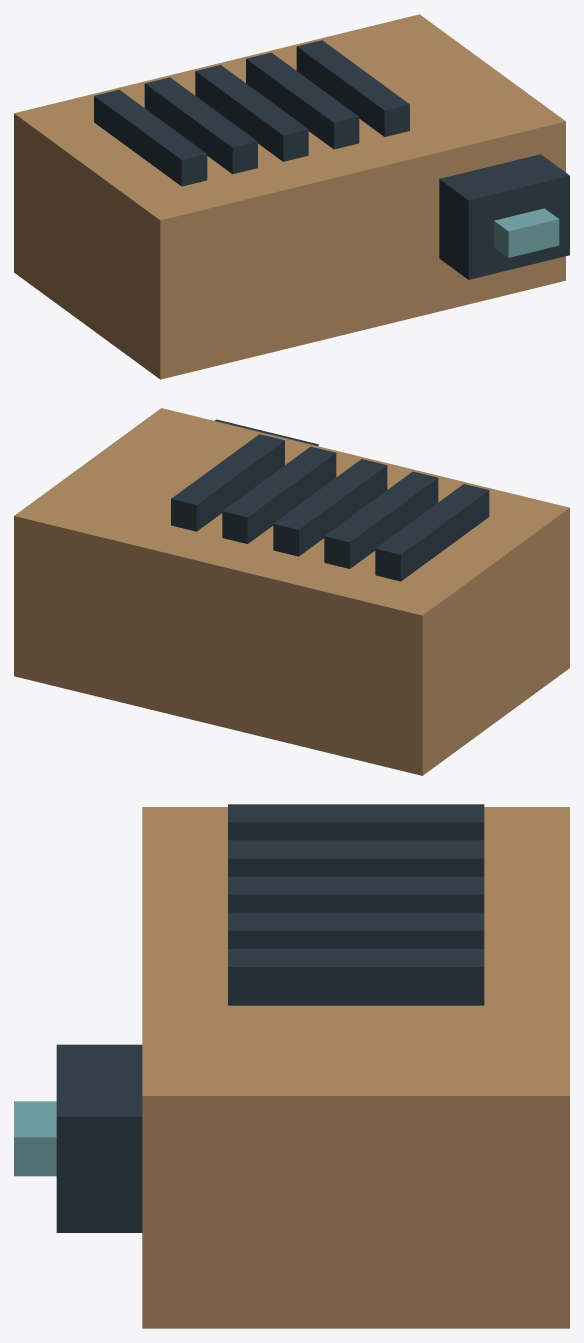
File: marketing-15.glb
3 renders of one model, top to bottom at view 1: azimuth 30°, elevation 25°; view 2: azimuth 150°, elevation 25°; view 3: azimuth 270°, elevation 25°, orthographic. The views are drawn at different scales.
Visible parts, largest first — view 1: Ad projector; view 2: Ad projector; view 3: Ad projector.
Boxes of the visible parts, x1,y1,x2,y2 form: Ad projector: [14, 14, 569, 379]; Ad projector: [14, 408, 569, 775]; Ad projector: [14, 804, 569, 1328].
Size of the model in its own units: 1.28 by 0.56 by 1.04.
